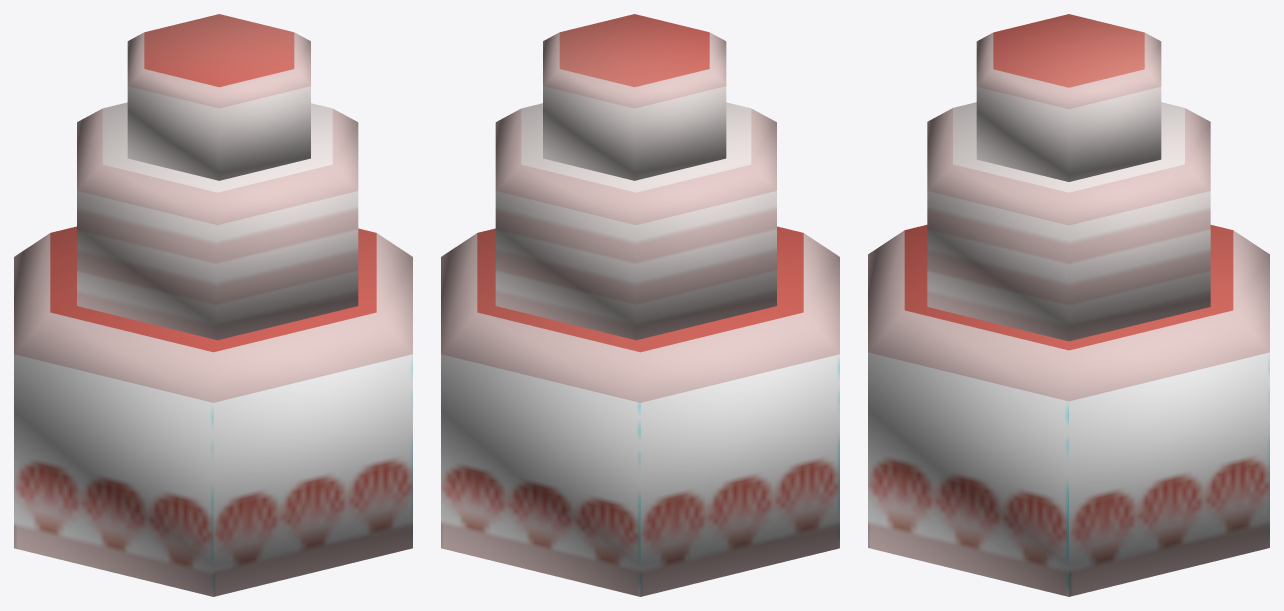
The model's file is Wedding_Cake_A.FBX.
The picture shows the model from 3 angles, left to right: view 1: azimuth 30°, elevation 25°; view 2: azimuth 150°, elevation 25°; view 3: azimuth 270°, elevation 25°; orthographic projection.
Visible parts, largest first — view 1: Wedding_Cake_A; view 2: Wedding_Cake_A; view 3: Wedding_Cake_A.
Part boxes in pixels (<box>): Wedding_Cake_A: <box>14,14,412,596</box>; Wedding_Cake_A: <box>441,14,839,596</box>; Wedding_Cake_A: <box>868,14,1269,596</box>.
Bounding box in the file's own units: 102 × 110 × 88.51.
